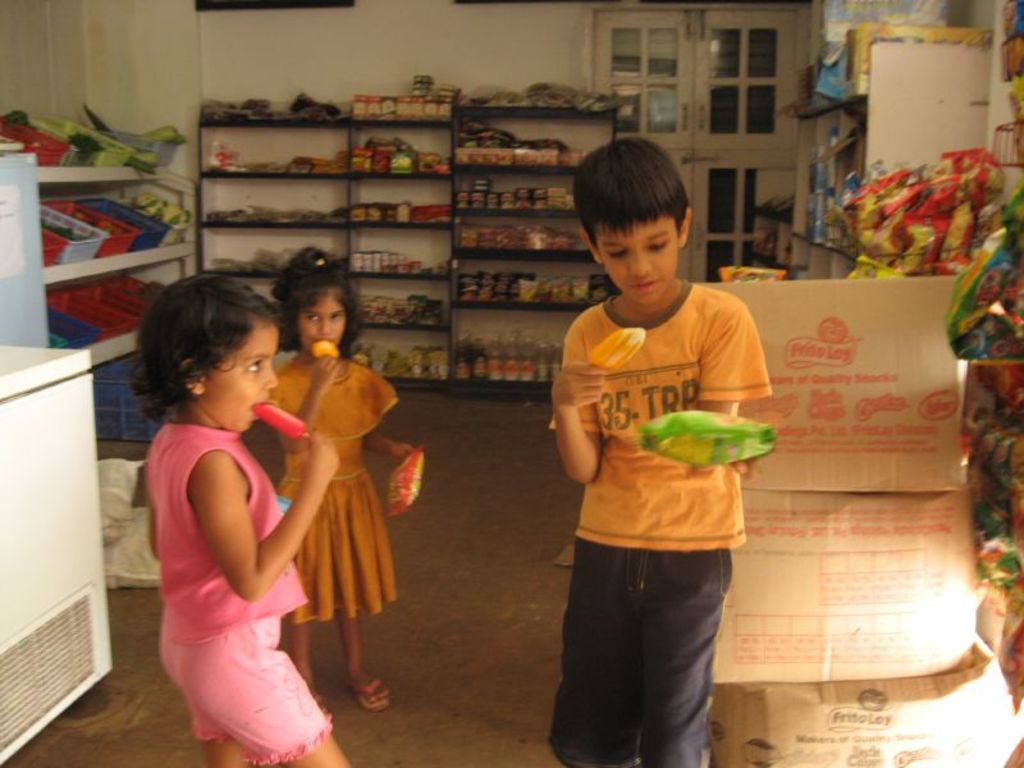Human_hand: (300, 426, 340, 489), (552, 362, 605, 408), (307, 352, 344, 397), (731, 452, 762, 481), (389, 440, 419, 468)
